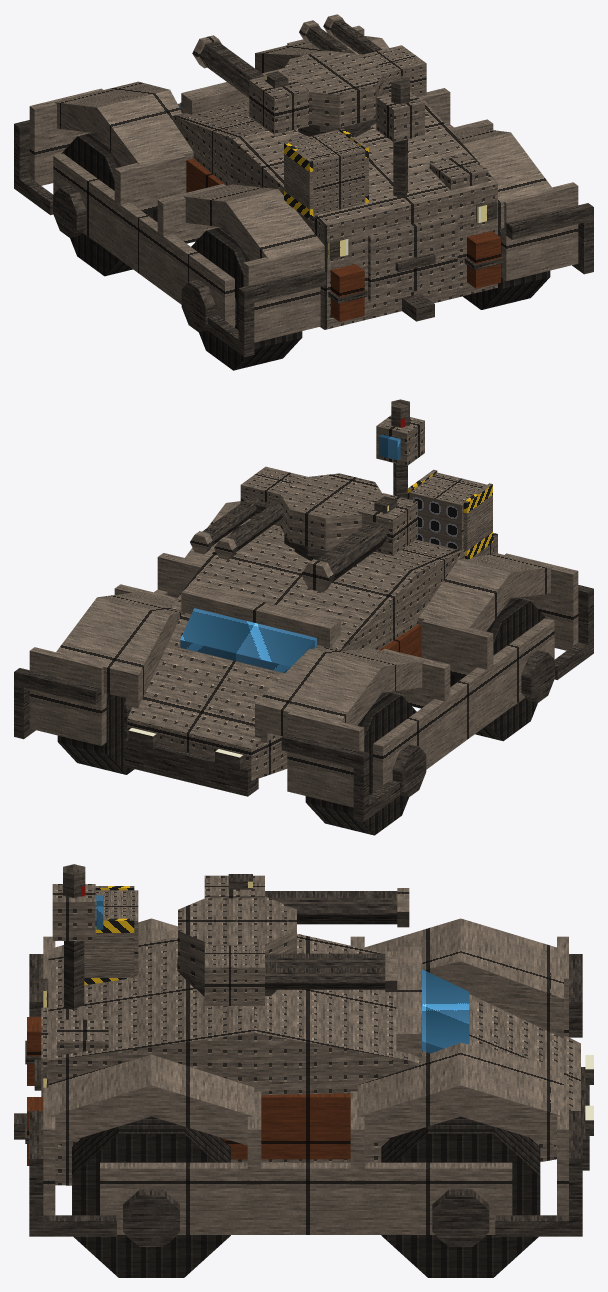
The model's file is prairie_dog.glb.
3 renders of one model, top to bottom at view 1: azimuth 30°, elevation 25°; view 2: azimuth 150°, elevation 25°; view 3: azimuth 270°, elevation 25°, orthographic. The views are drawn at different scales.
Visible parts, largest first — view 1: body, skirt, arch, arch.002, rear_hatch, turret, apron.003, apron.002, rack, arch.003, wheel.002, drop (+31 smaller); view 2: body, arch, skirt, arch.001, arch.002, turret, windscreen, apron.001, apron, brow, wheel, chin (+26 smaller); view 3: body, skirt.001, arch.001, arch.003, wheel.001, wheel.003, arch, turret, flank_stripe.001, barrel, receiver.001, windscreen (+29 smaller).
Part boxes in pixels (box(x1,y1,x2,y2)): body: box(171, 96, 497, 329); skirt: box(53, 153, 234, 327); arch: box(54, 81, 193, 166); arch.002: box(183, 184, 330, 271); rear_hatch: box(368, 214, 457, 301); turret: box(282, 50, 385, 127); apron.003: box(501, 182, 578, 281); apron.002: box(243, 247, 320, 342); rack: box(288, 130, 365, 216); arch.003: box(452, 127, 553, 230); wheel.002: box(191, 227, 302, 370); drop: box(114, 154, 186, 217); body: box(127, 521, 497, 780); arch: box(255, 648, 424, 742); skirt: box(373, 618, 554, 792); arch.001: box(54, 592, 182, 709); arch.002: box(418, 553, 553, 631); turret: box(279, 473, 382, 550); windscreen: box(180, 608, 317, 672); apron.001: box(29, 647, 106, 745); apron: box(287, 712, 364, 807); brow: box(181, 584, 340, 647); wheel: box(305, 692, 416, 835); chin: box(124, 738, 258, 796); body: box(48, 933, 580, 1185); skirt.001: box(100, 1162, 512, 1234); arch.001: box(357, 1042, 563, 1145); arch.003: box(48, 1054, 254, 1145); wheel.001: box(381, 1116, 540, 1277); wheel.003: box(72, 1116, 230, 1277); arch: box(362, 918, 563, 1038); turret: box(178, 896, 296, 980); flank_stripe.001: box(220, 1093, 350, 1159); barrel: box(265, 891, 397, 924); receiver.001: box(204, 942, 264, 1005); windscreen: box(422, 969, 469, 1053).
Size of the model in its own units: 56.4 by 41.24 by 67.5.
10 materials, 10 textured.
